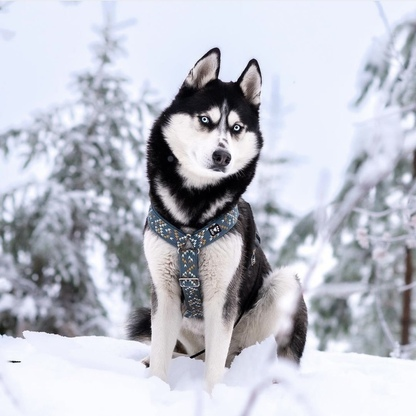husky: (135, 41, 308, 392)
